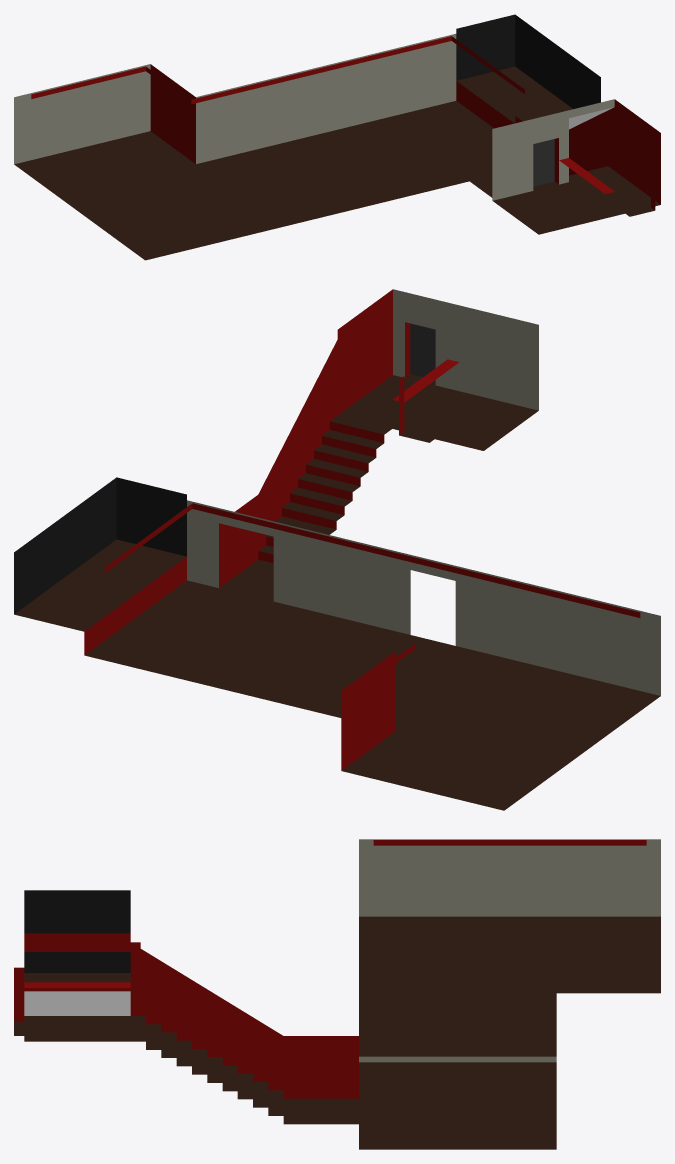
File: bar.glb
3 views of the same model, one above another, from view 1: azimuth 30°, elevation 25°; view 2: azimuth 150°, elevation 25°; view 3: azimuth 270°, elevation 25° (orthographic). The views are drawn at different scales.
Parts seen in each view (by area): view 1: BarLocation; view 2: BarLocation; view 3: BarLocation.
Boxes of the visible parts, x1=… form: BarLocation: x1=14, y1=14, x2=660, y2=260; BarLocation: x1=14, y1=289, x2=660, y2=810; BarLocation: x1=14, y1=839, x2=660, y2=1149.
Bounding box in the file's own units: 19.9 × 6 × 21.28.
